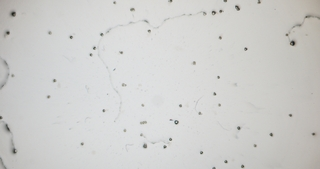germinated: (286, 35, 297, 48), (8, 143, 19, 154), (196, 8, 207, 18), (139, 131, 148, 141)
nongerminated: (45, 27, 56, 38), (96, 29, 106, 40), (50, 75, 60, 86), (195, 107, 206, 117), (117, 48, 127, 58), (99, 106, 109, 116), (138, 100, 148, 110), (8, 9, 18, 19), (4, 28, 14, 38), (128, 5, 139, 14), (171, 117, 181, 126), (44, 93, 54, 102), (242, 44, 251, 53), (286, 111, 295, 120), (234, 124, 243, 133), (190, 58, 199, 67), (145, 27, 154, 36), (211, 89, 219, 99), (140, 142, 150, 150), (197, 149, 207, 157), (67, 34, 77, 42), (120, 127, 130, 135), (77, 139, 87, 147), (216, 100, 225, 108), (215, 73, 224, 81), (176, 101, 184, 110), (166, 135, 175, 143), (90, 43, 99, 51), (216, 33, 224, 41), (309, 130, 317, 138), (222, 157, 230, 165), (210, 8, 217, 17), (250, 142, 259, 149), (86, 51, 95, 58), (232, 3, 241, 10), (268, 130, 275, 138), (162, 142, 169, 150), (217, 8, 225, 14)
